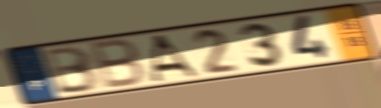2: (192, 27, 241, 75)
3: (237, 20, 286, 69)
4: (290, 13, 337, 63)
A: (150, 32, 203, 83)
B: (89, 37, 148, 91), (43, 44, 102, 97)
